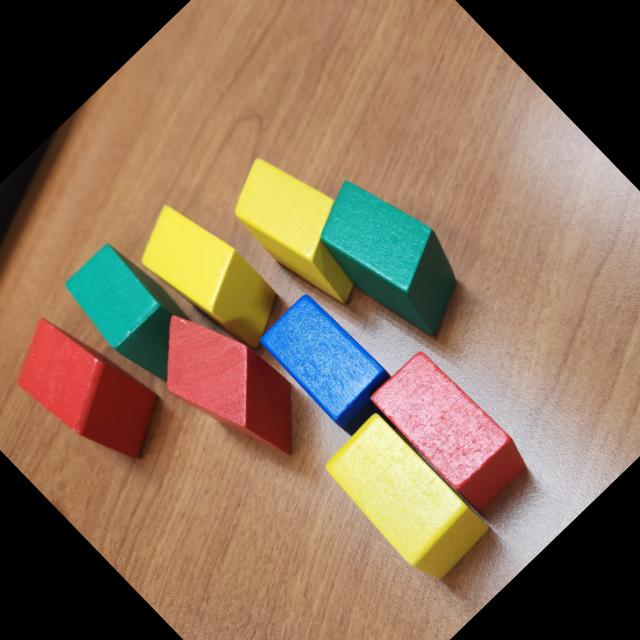blue: (255, 289, 408, 443)
green: (294, 159, 490, 356), (56, 234, 214, 396)
red: (131, 287, 330, 488), (0, 296, 181, 486), (364, 342, 537, 518)
yellow: (120, 184, 298, 366), (316, 408, 494, 588), (216, 138, 393, 317)
